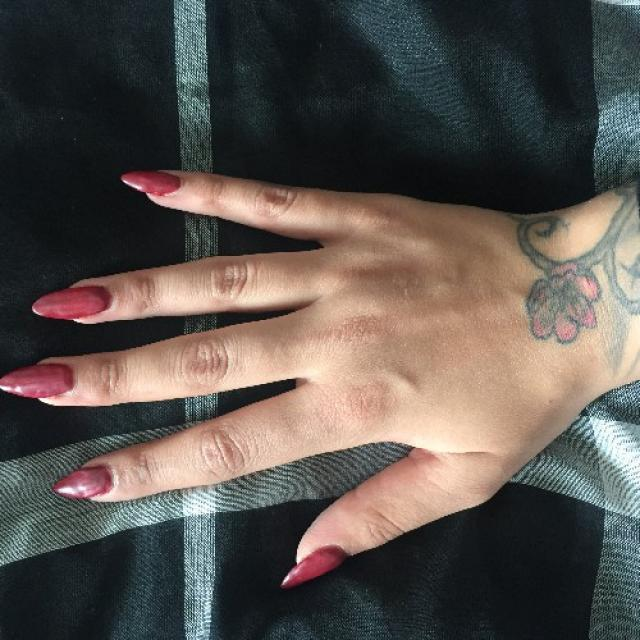paper: (0, 164, 567, 587)
